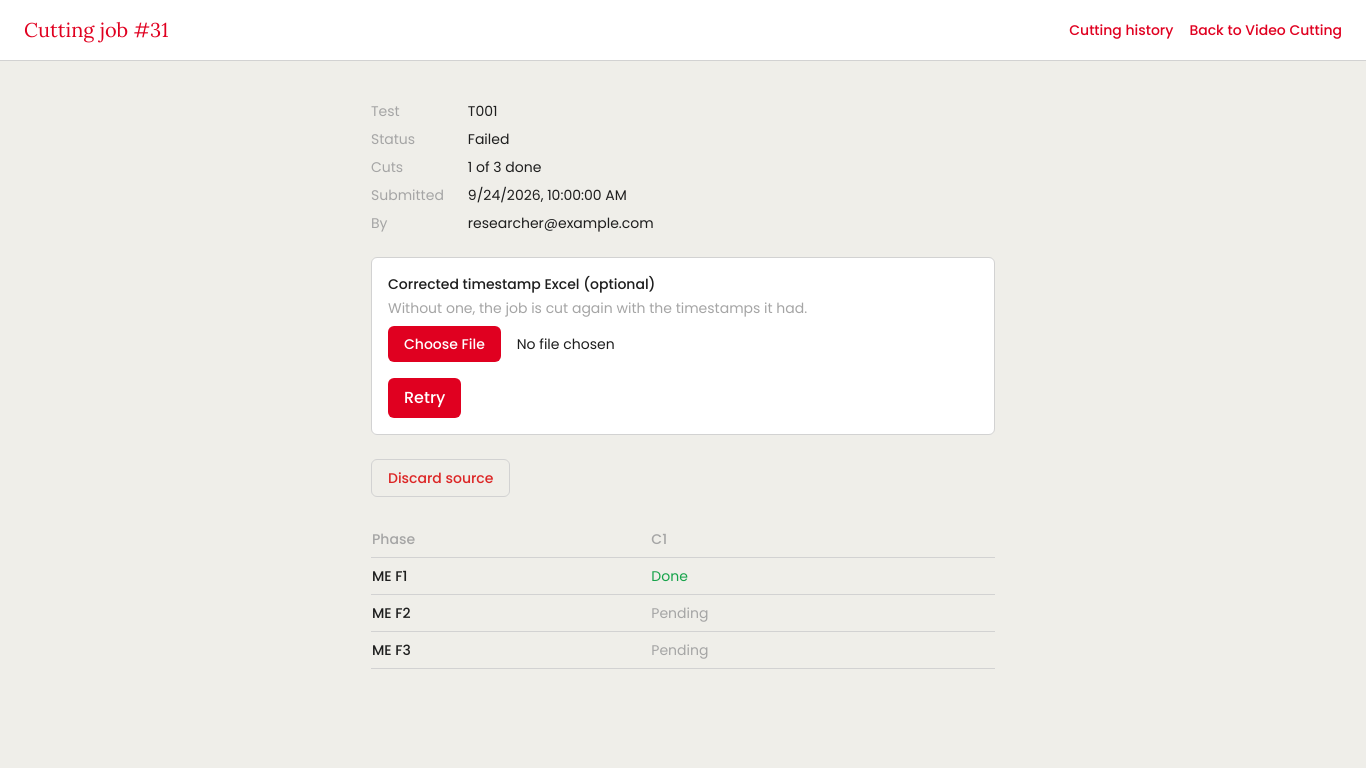
Test: CuttingJobView › discards the source once confirmed, leaving the job failed
Click the button with test id "discard-source" at point(441, 478), box [371,459,510,497]
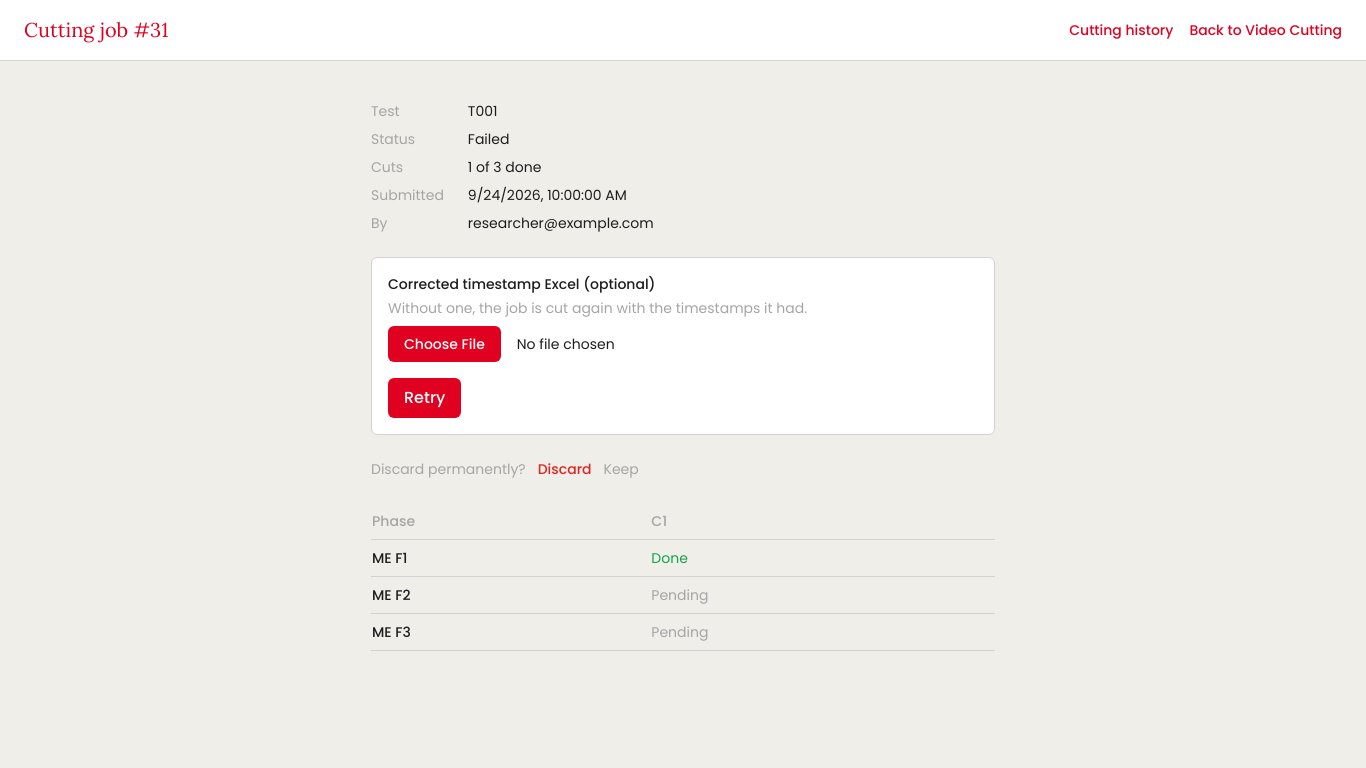
Click the button with test id "discard-source-confirm" at point(565, 469), box [538,459,592,479]
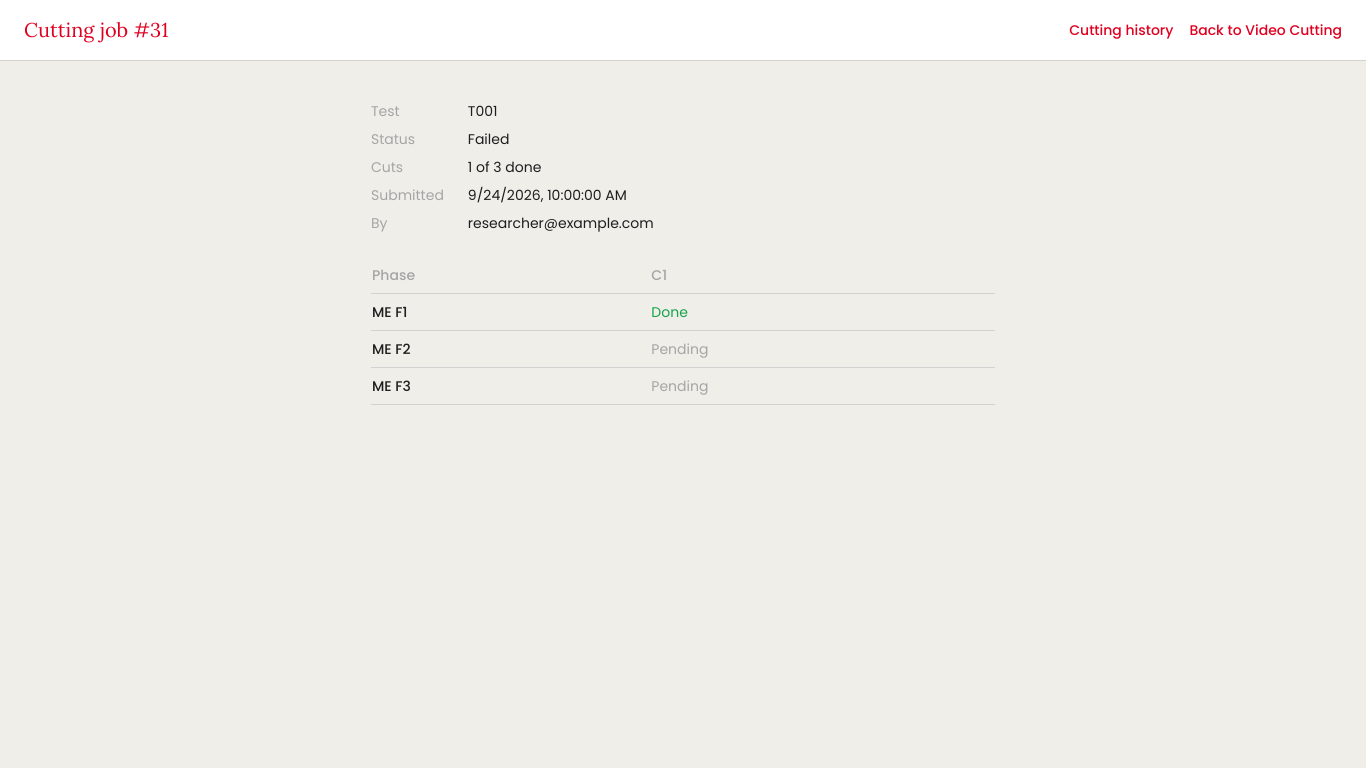
expect the text with test id "job-status" reads "Failed": met, box [468,129,509,149]
expect the text "Discard permanently?" is gone: met
